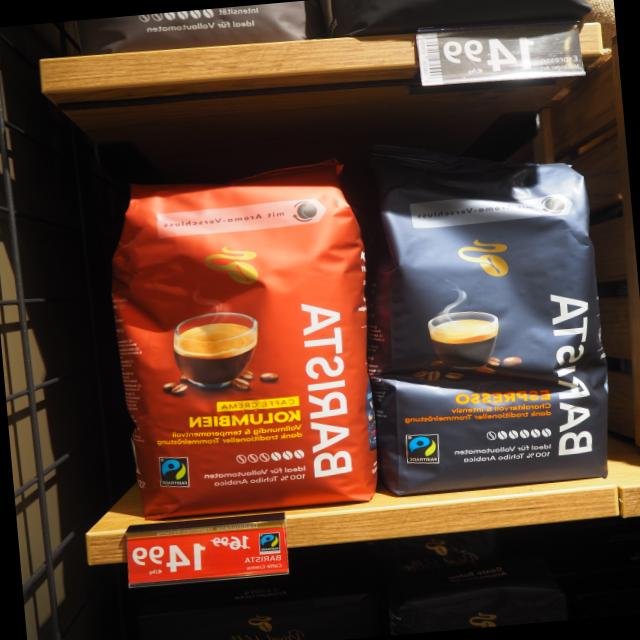Barista Espresso: (355, 141, 611, 501)
Barista Kolumbien: (99, 155, 385, 528)
